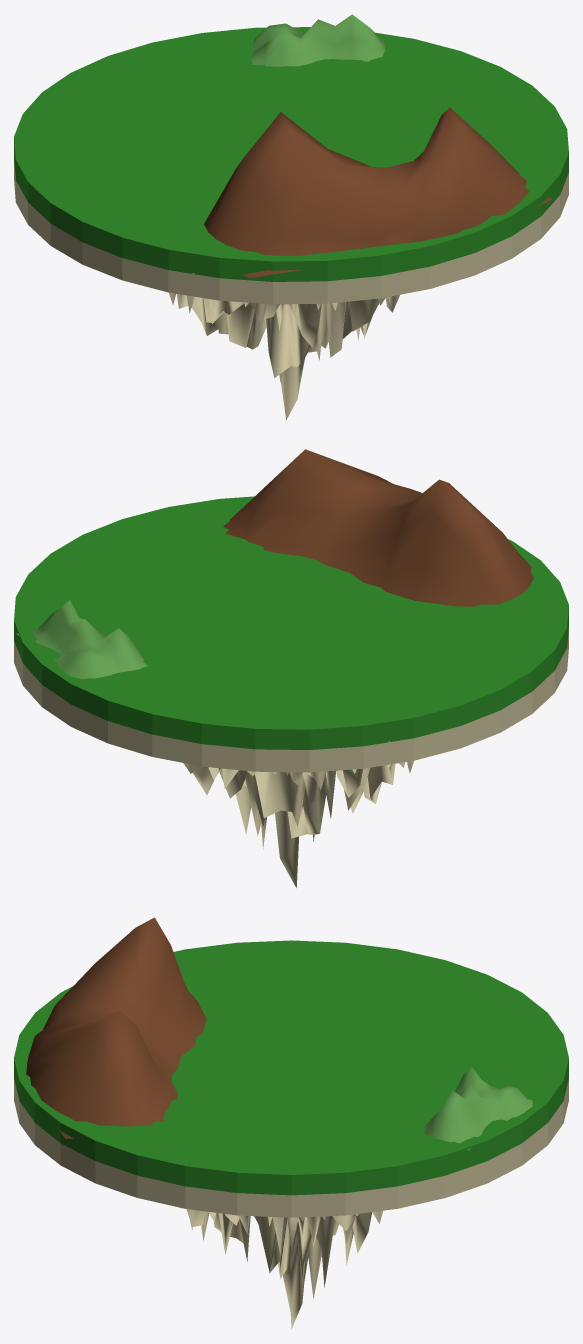
The model's file is island_big.fbx.
3 renders of one model, top to bottom at view 1: azimuth 30°, elevation 25°; view 2: azimuth 150°, elevation 25°; view 3: azimuth 270°, elevation 25°, orthographic.
Parts seen in each view (by area): view 1: Circle.002, Plane.001, Plane, Plane.002; view 2: Circle.002, Plane.001, Plane, Plane.002; view 3: Circle.002, Plane.001, Plane, Plane.002.
Part boxes in pixels (x1,y1,x2,y2): Circle.002: [14, 27, 568, 304]; Plane.001: [204, 107, 552, 277]; Plane: [169, 273, 399, 419]; Plane.002: [251, 14, 385, 66]; Circle.002: [14, 496, 568, 772]; Plane.001: [223, 449, 533, 606]; Plane: [183, 741, 413, 887]; Plane.002: [16, 600, 147, 679]; Circle.002: [14, 940, 568, 1217]; Plane.001: [26, 917, 206, 1138]; Plane: [179, 1207, 383, 1329]; Plane.002: [422, 1067, 532, 1150].
Size of the model in its own units: 548 by 410 by 548.
